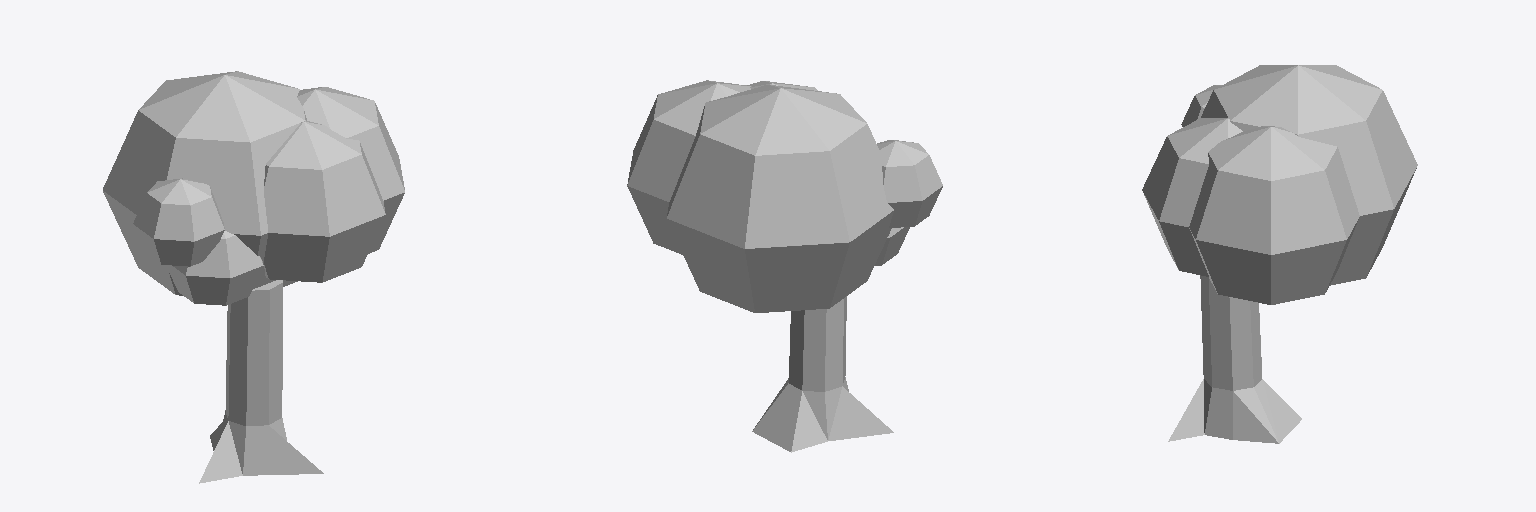
File: tree.obj
The picture shows the model from 3 angles: view 1: azimuth 30°, elevation 25°; view 2: azimuth 150°, elevation 25°; view 3: azimuth 270°, elevation 25°; orthographic projection.
Parts seen in each view (by area): view 1: Cylinder2; view 2: Cylinder2; view 3: Cylinder2.
Part boxes in pixels (x1,y1,x2,y2): Cylinder2: (103, 71, 404, 483); Cylinder2: (627, 80, 942, 452); Cylinder2: (1142, 65, 1417, 443).
Bounding box in the file's own units: 71.89 × 88.96 × 61.88.